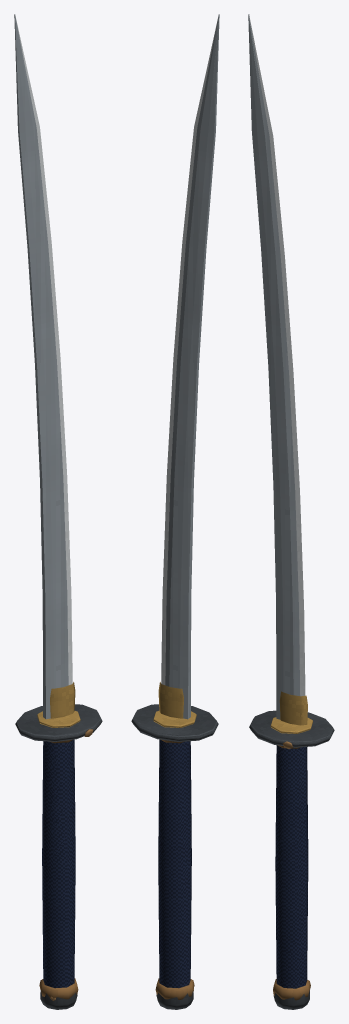
The model's file is katana.lod2.glb.
3 renders of one model, left to right at view 1: azimuth 30°, elevation 25°; view 2: azimuth 150°, elevation 25°; view 3: azimuth 330°, elevation 25°, orthographic. The views are drawn at different scales.
Visible parts, largest first — view 1: steel / forged blade steel, cord / waxed silk cord wrap, edge / honed bright bevel, darksteel / oil-blackened fittings, brass / polished brass furniture, bronze / cast bronze with patina; view 2: steel / forged blade steel, cord / waxed silk cord wrap, edge / honed bright bevel, darksteel / oil-blackened fittings, brass / polished brass furniture, bronze / cast bronze with patina; view 3: steel / forged blade steel, cord / waxed silk cord wrap, edge / honed bright bevel, darksteel / oil-blackened fittings, brass / polished brass furniture, bronze / cast bronze with patina.
Part boxes in pixels (x1,y1,x2,y2): steel / forged blade steel: (14,14,68,719); cord / waxed silk cord wrap: (42,739,75,988); edge / honed bright bevel: (16,19,72,684); darksteel / oil-blackened fittings: (15,704,102,1009); brass / polished brass furniture: (37,682,80,727); bronze / cast bronze with patina: (39,739,78,999); steel / forged blade steel: (165,14,219,719); cord / waxed silk cord wrap: (158,739,191,988); edge / honed bright bevel: (161,20,217,684); darksteel / oil-blackened fittings: (131,704,218,1009); brass / polished brass furniture: (153,682,196,727); bronze / cast bronze with patina: (155,739,194,999); steel / forged blade steel: (248,14,300,719); cord / waxed silk cord wrap: (275,745,308,988); edge / honed bright bevel: (249,15,305,696); darksteel / oil-blackened fittings: (249,710,334,1009); brass / polished brass furniture: (270,691,312,733); bronze / cast bronze with patina: (273,745,310,1000).
Size of the model in its own units: 0.0889 by 1.01 by 0.0689.
Materials: 7 (6 with a texture image).
